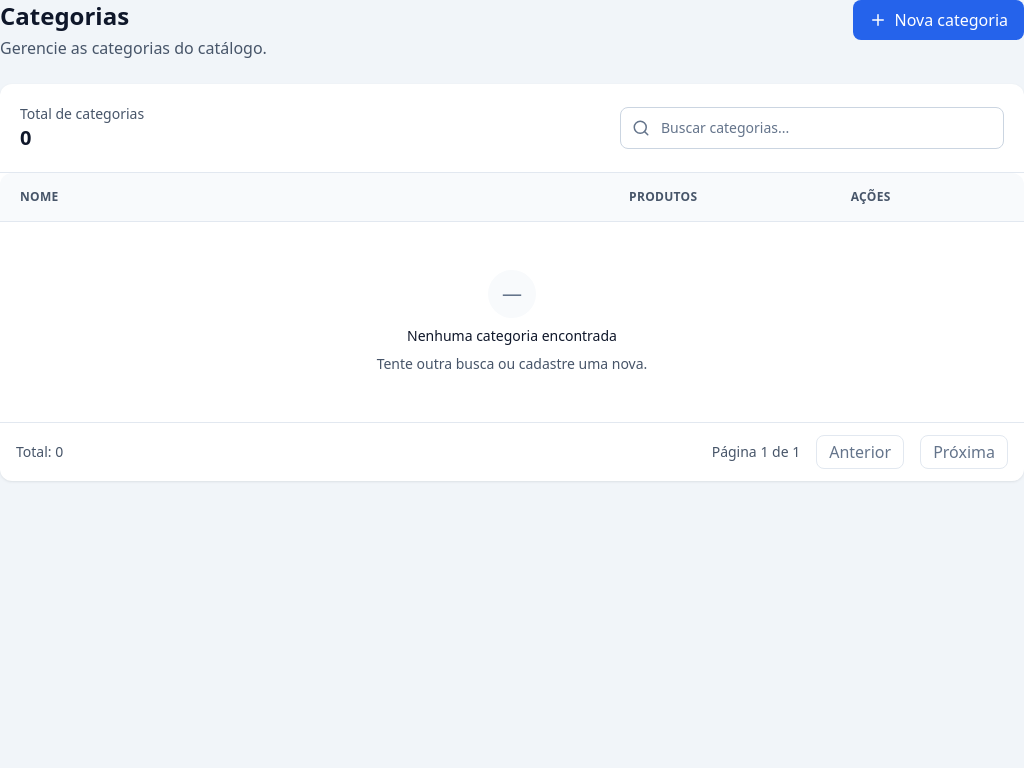
Test case: Margem desejada nos formulários › Categoria e Marca: VENDEDOR não vê o campo
This screenshot has width=1024, height=768.
Click the button "Nova categoria" at [938, 20], box [852,0,1023,40]
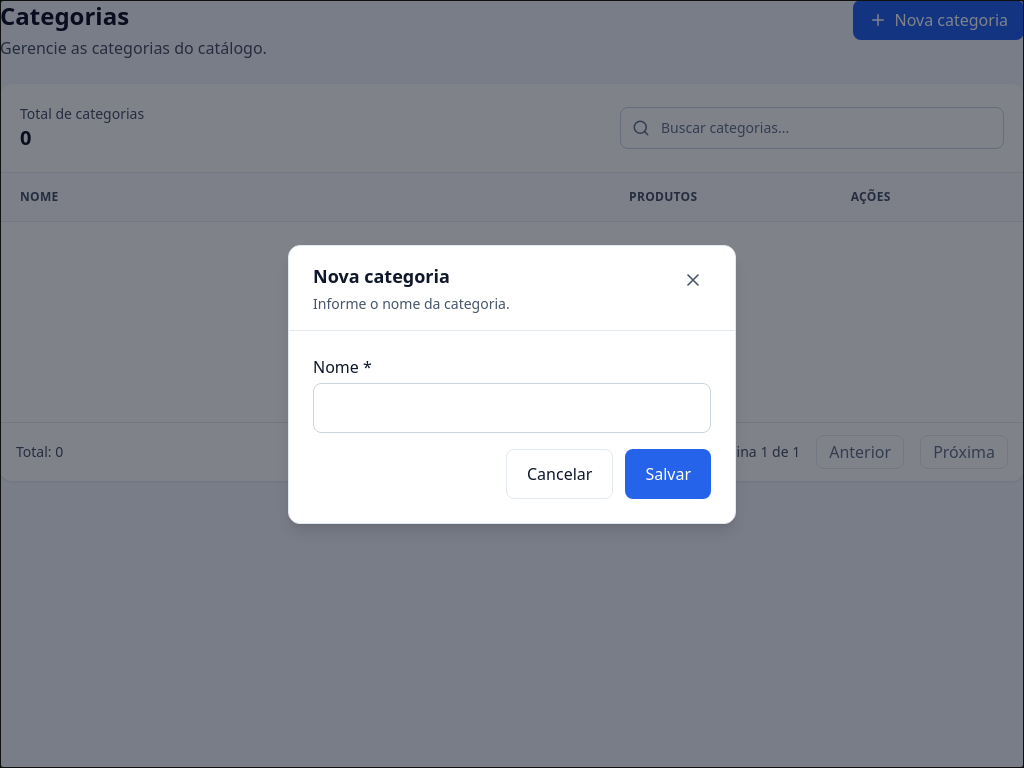
Result: the field labelled "Nome *" is shown at [313,382,711,432]
